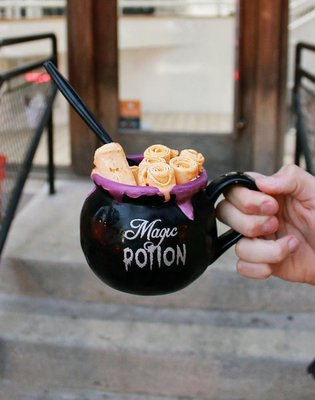pizza: (219, 164, 315, 287)
